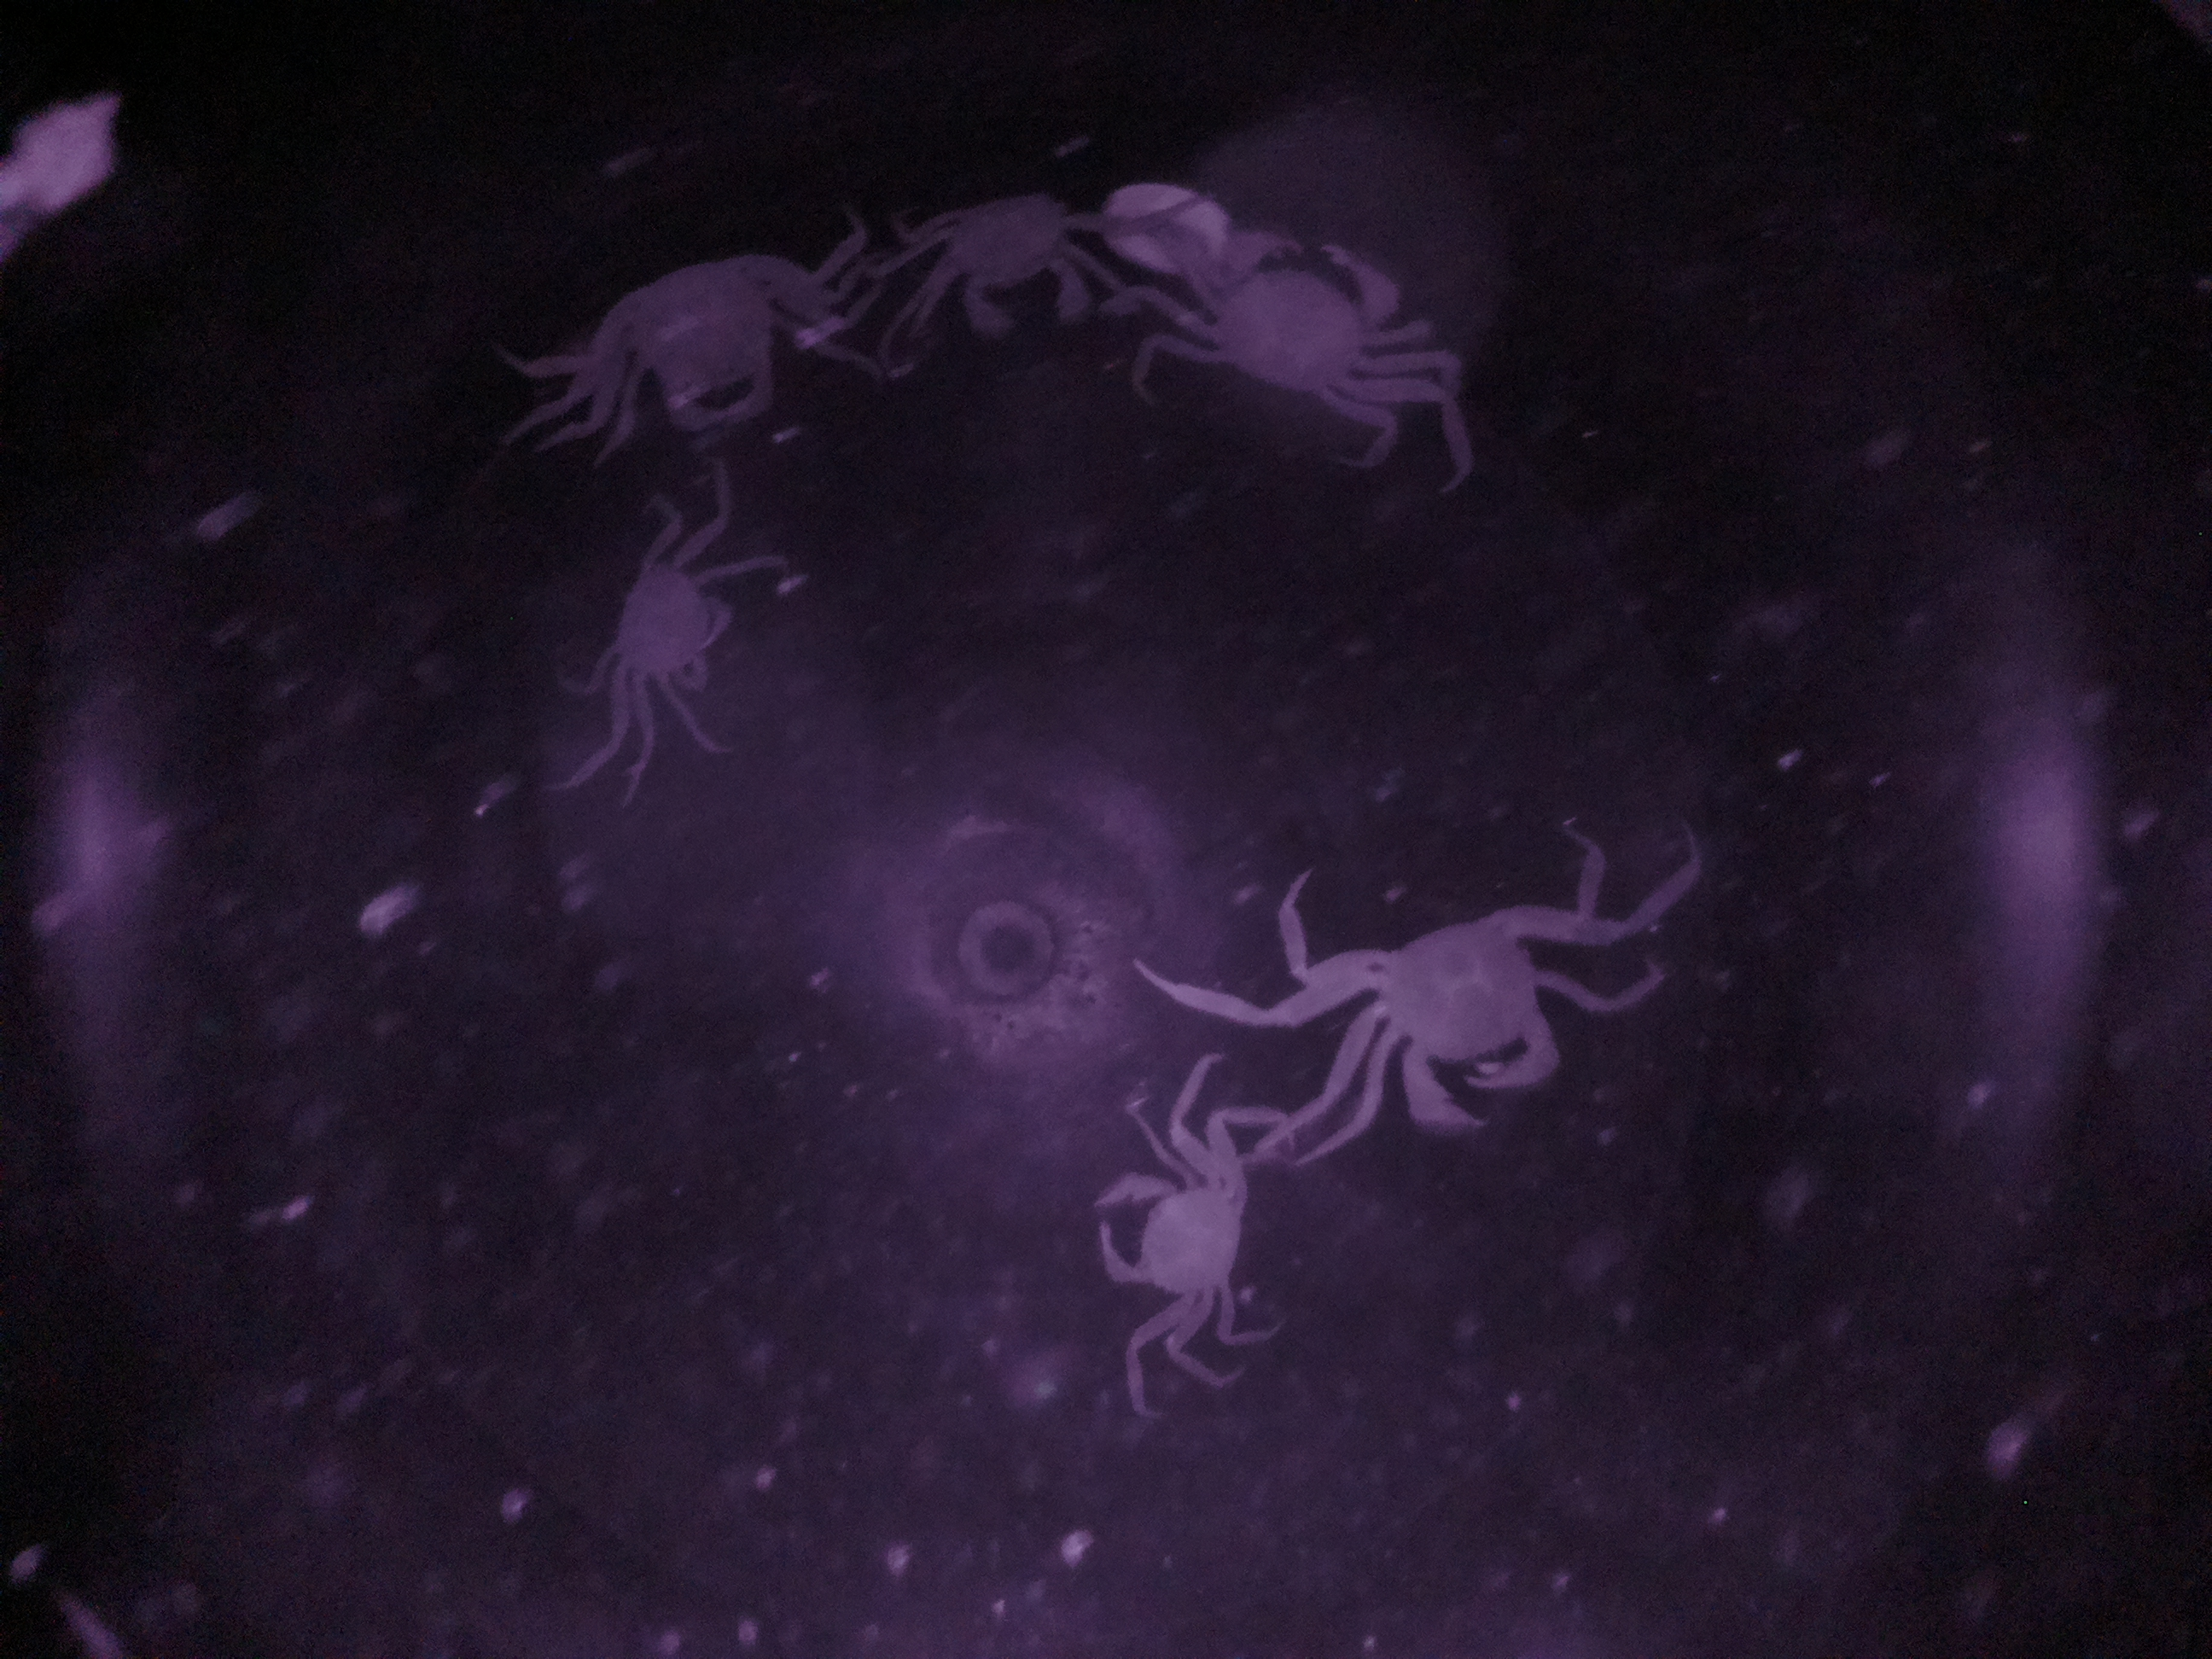Crab: (1320, 880, 1602, 1143), (1155, 221, 1437, 434), (580, 235, 841, 441), (923, 171, 1118, 350), (1078, 1136, 1266, 1321), (594, 532, 763, 725)
